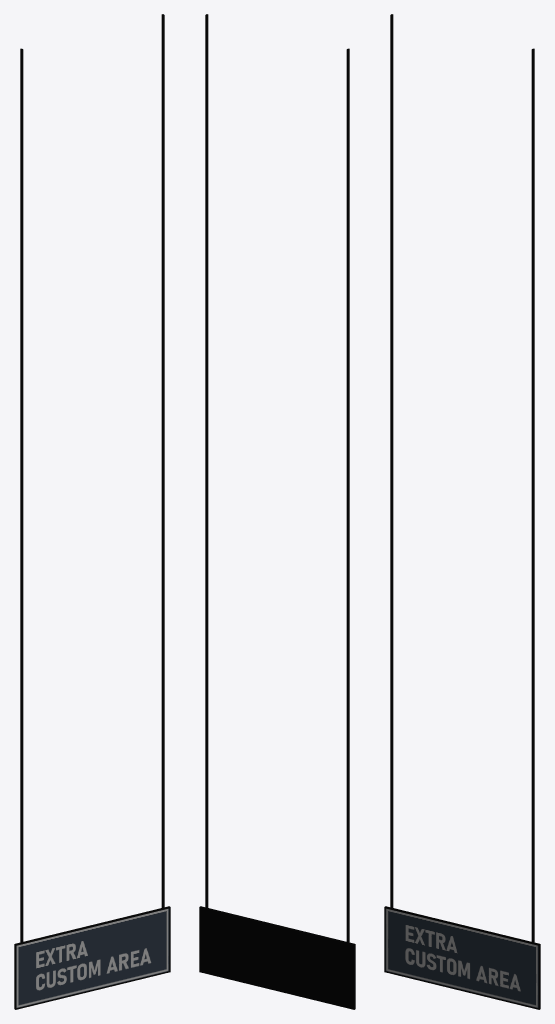
File: stand_medium_top_01.fbx
The picture shows the model from 3 angles, left to right: view 1: azimuth 30°, elevation 25°; view 2: azimuth 150°, elevation 25°; view 3: azimuth 330°, elevation 25°; orthographic projection.
Visible parts, largest first — view 1: stand_medium_top_01; view 2: stand_medium_top_01; view 3: stand_medium_top_01.
Boxes of the visible parts, box(x1,y1,x2,y2) form: stand_medium_top_01: box(14, 14, 170, 1009); stand_medium_top_01: box(199, 14, 355, 1009); stand_medium_top_01: box(384, 14, 540, 1009).
Size of the model in its own units: 200 by 1180 by 3.
